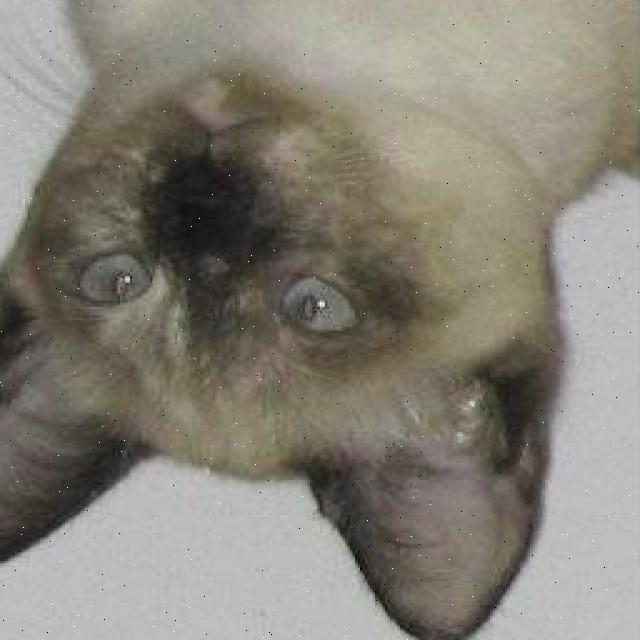Cat: (0, 13, 595, 625)
